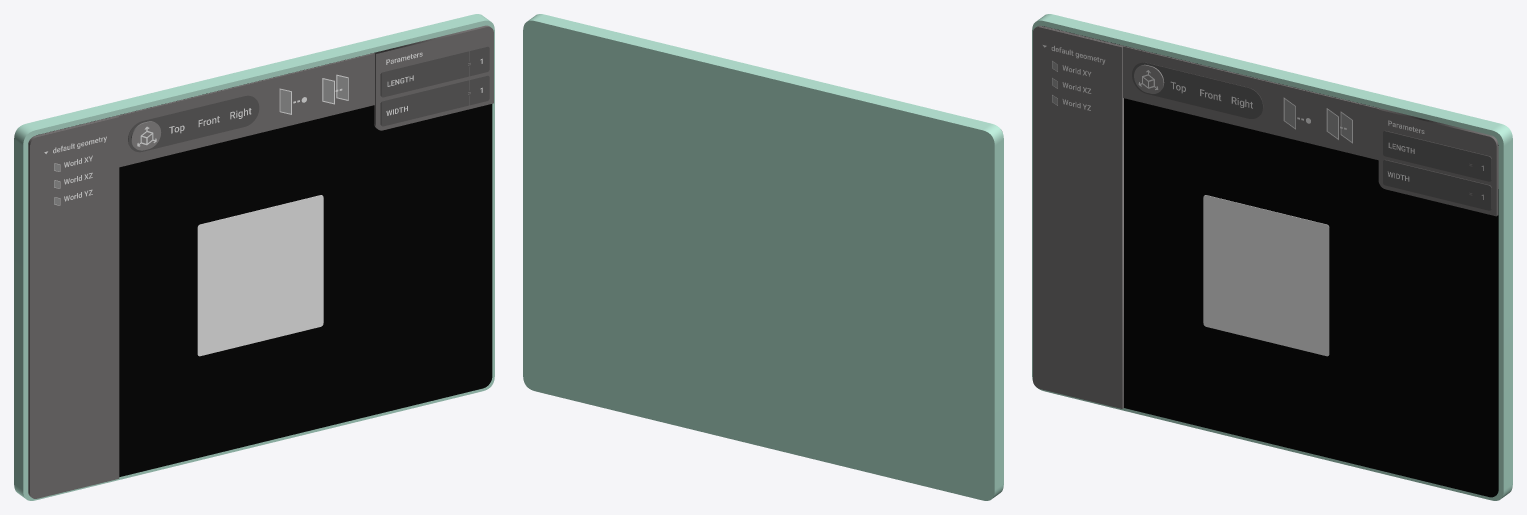
The picture shows the model from 3 angles, left to right: view 1: azimuth 30°, elevation 25°; view 2: azimuth 150°, elevation 25°; view 3: azimuth 330°, elevation 25°; orthographic projection.
Visible parts, largest first — view 1: GlobalMount, AssetPanel, MP4Mount, Platform, TopPanel, Para (×2), ParaPanel, ViewPill, ActivePill; view 2: Platform; view 3: GlobalMount, AssetPanel, MP4Mount, Platform, TopPanel, Para (×2), ParaPanel, ViewPill, ActivePill.
Part boxes in pixels (x1,y1,x2,y2): GlobalMount: (36,53,492,476); AssetPanel: (28,116,119,498); MP4Mount: (197,195,323,356); Platform: (14,14,494,500); TopPanel: (36,53,374,167); Para (×2): (380,46,489,126); ParaPanel: (374,25,493,130); ViewPill: (128,95,259,152); ActivePill: (131,121,161,150); Platform: (523,14,1003,500); GlobalMount: (1042,26,1498,497); AssetPanel: (1033,25,1123,408); MP4Mount: (1203,195,1329,356); Platform: (1032,14,1512,500); TopPanel: (1042,26,1498,188); Para (×2): (1383,130,1491,210); ParaPanel: (1378,108,1498,216); ViewPill: (1132,62,1263,118); ActivePill: (1134,64,1164,93).
Bounding box in the file's own units: 12 × 9 × 0.6501.
